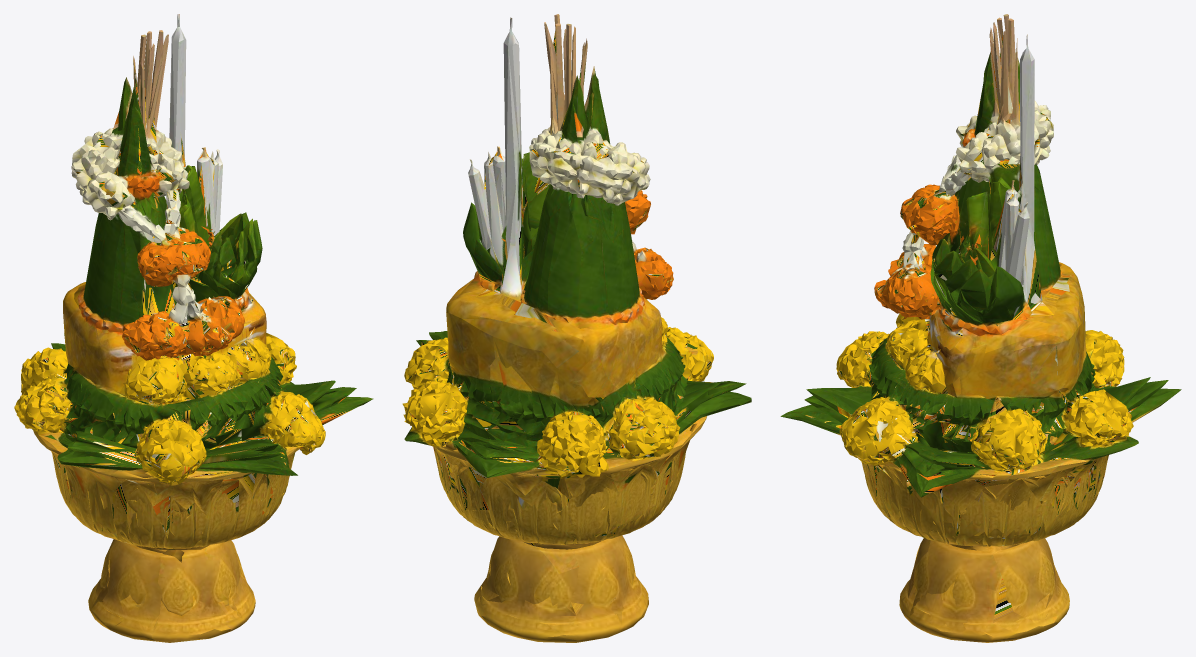
The model's file is w3baisri.glb.
The picture shows the model from 3 angles, left to right: view 1: azimuth 30°, elevation 25°; view 2: azimuth 150°, elevation 25°; view 3: azimuth 270°, elevation 25°; orthographic projection. The views are drawn at different scales.
Visible parts, largest first — view 1: w3baisri_near, w3baisri_far; view 2: w3baisri_near, w3baisri_far; view 3: w3baisri_near, w3baisri_far.
Boxes of the visible parts, x1,y1,x2,y2 form: w3baisri_near: (14, 14, 373, 642); w3baisri_far: (18, 31, 363, 633); w3baisri_near: (402, 14, 751, 642); w3baisri_far: (405, 27, 748, 630); w3baisri_near: (780, 14, 1181, 642); w3baisri_far: (799, 20, 1150, 633).
Bounding box in the file's own units: 0.3472 × 0.6 × 0.3706.
1 material, 1 textured.
